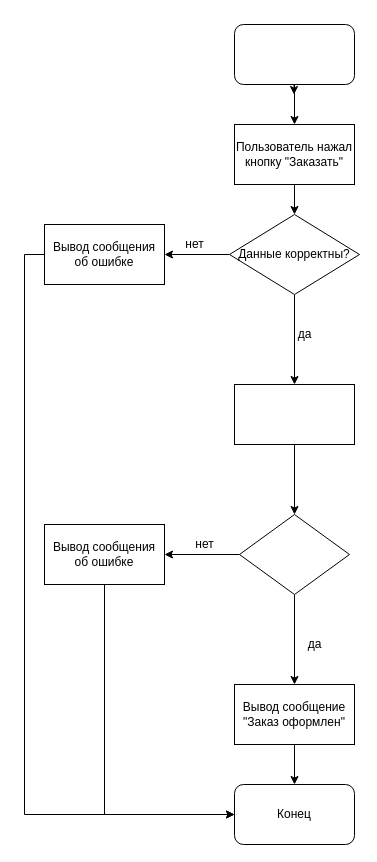
This 377x862 diagram has some shape labels left out. Here are the shapes that lost their labels. From the top down, the box of each, then its label:
(234, 24, 354, 84): начало
(234, 384, 354, 444): Проверка уникальности послей "email" и "телефон"
(238, 514, 350, 594): Данные уникальны?
